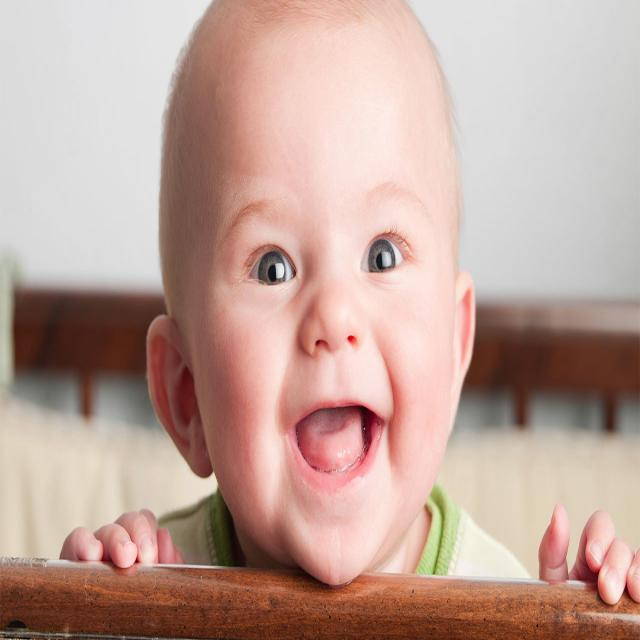child: (55, 2, 639, 608)
